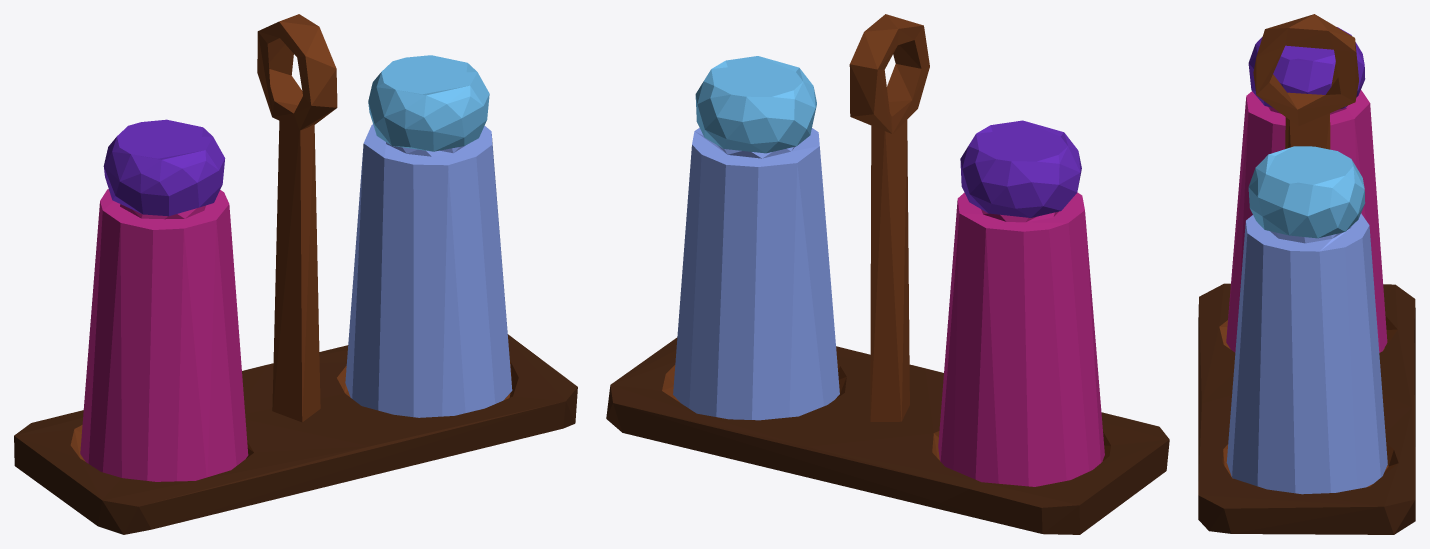
The model's file is SaltPepperShaker.fbx.
3 renders of one model, left to right at view 1: azimuth 30°, elevation 25°; view 2: azimuth 150°, elevation 25°; view 3: azimuth 270°, elevation 25°, orthographic. The views are drawn at different scales.
Visible parts, largest first — view 1: SaltPepperShakerLowPoly, SaltLowPoly, PepperLowPoly; view 2: SaltPepperShakerLowPoly, SaltLowPoly, PepperLowPoly; view 3: PepperLowPoly, SaltPepperShakerLowPoly, SaltLowPoly.
Part boxes in pixels (box(x1,y1,x2,y2)): SaltPepperShakerLowPoly: box(14, 14, 577, 534); SaltLowPoly: box(80, 119, 248, 481); PepperLowPoly: box(345, 55, 512, 417); SaltPepperShakerLowPoly: box(606, 14, 1169, 534); SaltLowPoly: box(938, 120, 1104, 486); PepperLowPoly: box(673, 56, 839, 420); PepperLowPoly: box(1226, 146, 1387, 494); SaltPepperShakerLowPoly: box(1198, 14, 1415, 534); SaltLowPoly: box(1226, 27, 1387, 352).
Size of the model in its own units: 11.74 by 9.91 by 4.83.
